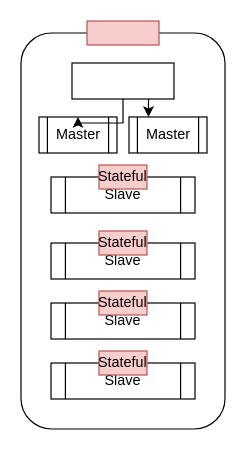
Some shapes in this 246 by 450 pixel diagram are drawn without their labels. The centre of each missing label's shape, as x and y in pixels:
"state monitor" goes at pixel 122 80.
"Statelessl" goes at pixel 122 32.
